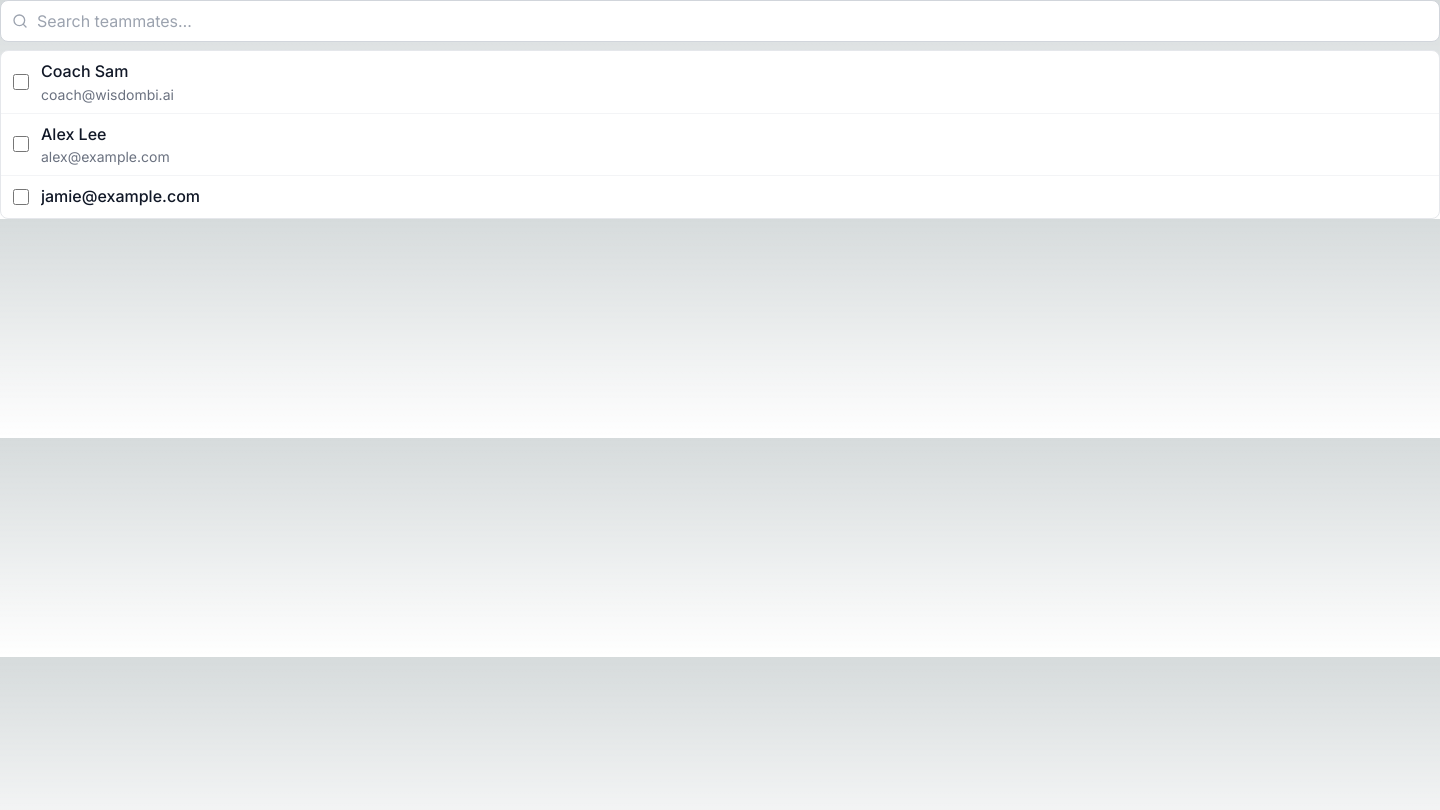
TeammatePicker › filters by email substring when display name is missing
The width and height of the screenshot is (1440, 810).
Type "jamie" into the field labelled "Search teammates". click: {"x": 720, "y": 21}
box: [0,0,1439,42]
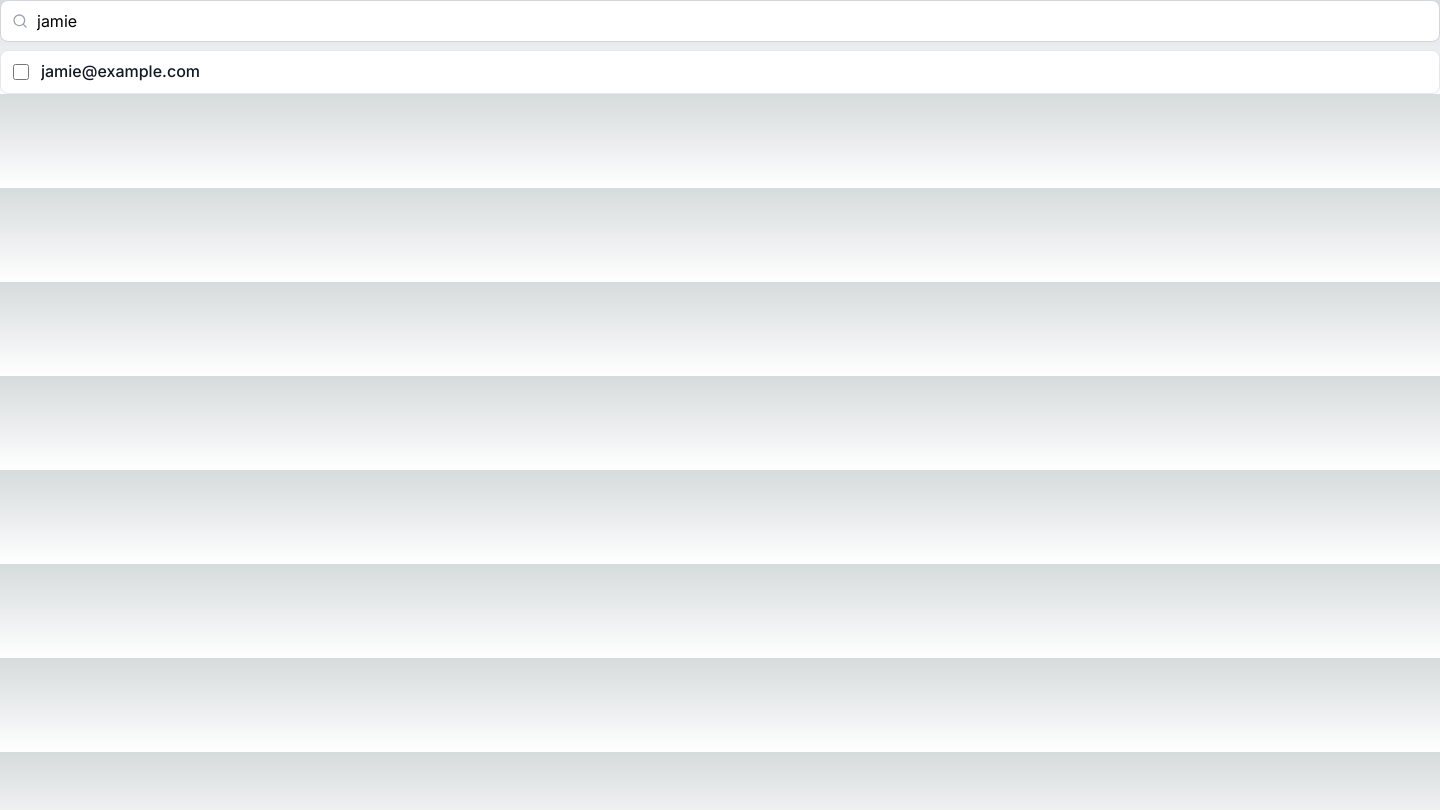
Expected: the text "jamie@example.com" is shown, [13,61,200,81]
Expected: the label with test id "teammate-option-u-coach" is gone
